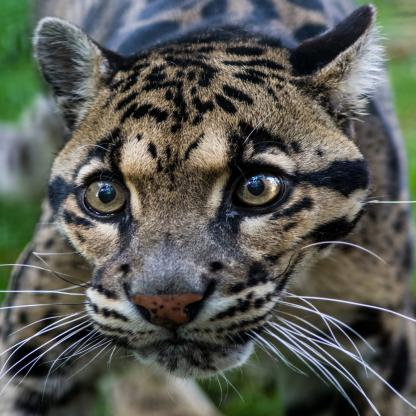leopard: (21, 6, 386, 386)
